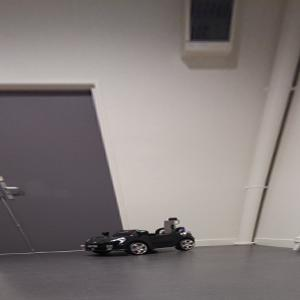big: (80, 227, 198, 256)
